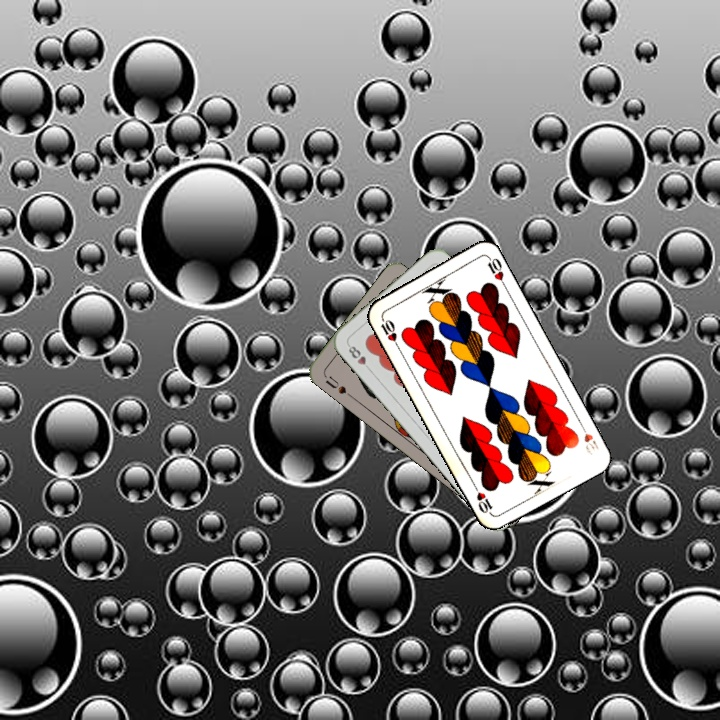H10: (576, 419, 601, 458), (377, 312, 402, 350)
H8: (344, 340, 374, 374)
SU: (321, 371, 355, 400)
